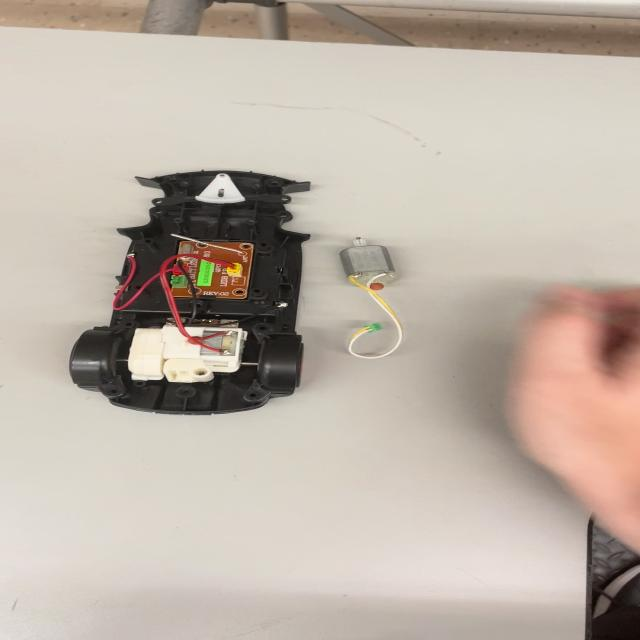Chassis: (63, 161, 310, 418)
motor: (339, 228, 400, 356)
